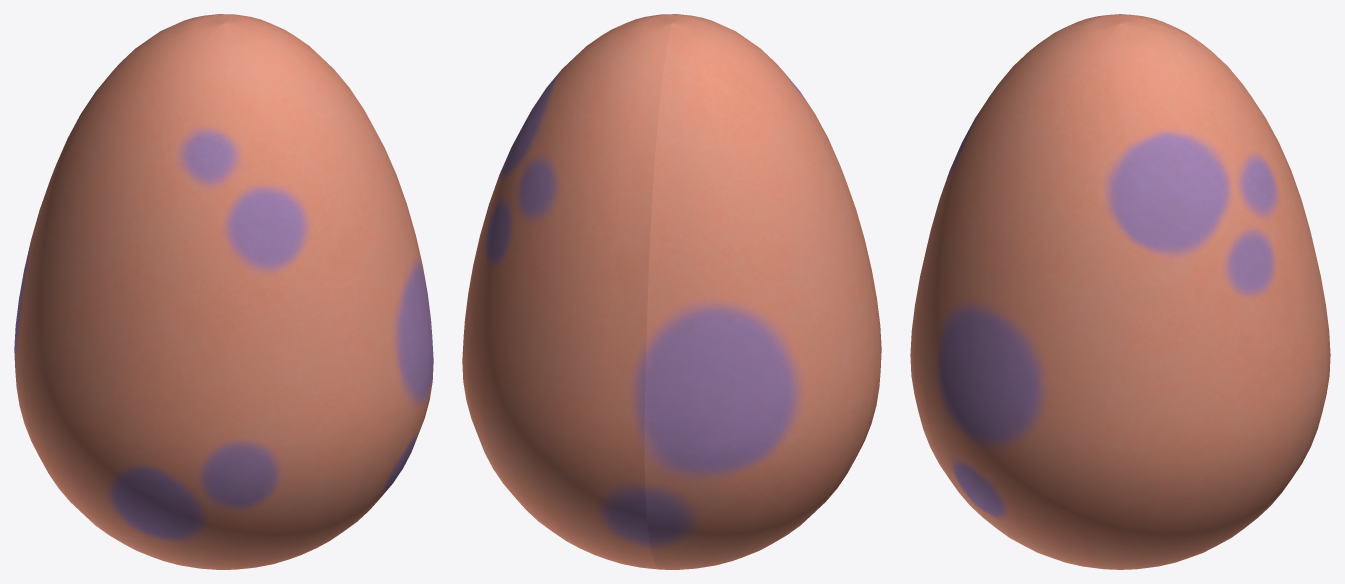
The model's file is egg.fbx.
3 views of the same model, side by side, from view 1: azimuth 30°, elevation 25°; view 2: azimuth 150°, elevation 25°; view 3: azimuth 270°, elevation 25° (orthographic).
Visible parts, largest first — view 1: DragonEgg; view 2: DragonEgg; view 3: DragonEgg.
Part boxes in pixels (<box>): DragonEgg: <box>14,14,433,569</box>; DragonEgg: <box>462,14,881,569</box>; DragonEgg: <box>910,14,1330,569</box>.
Size of the model in its own units: 6.98 by 9.68 by 6.98.
1 material, 1 textured.
